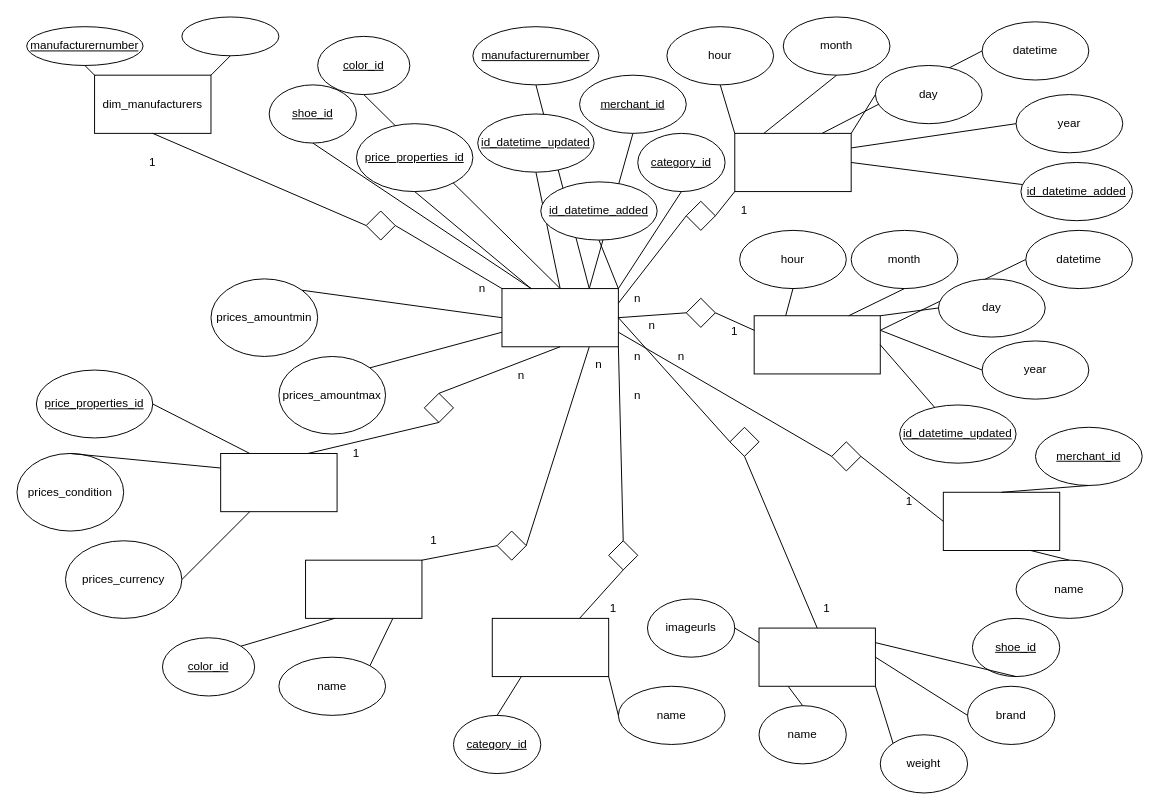
The diagram is 1159 pixels wide and 810 high, and some of its shapes have lost their labels. The shapes that lost their labels are listed below. From the top down, each one's centre as x and y in pixels, then its label:
(x=230, y=36): manufacturer
(x=792, y=162): dim_datetime_added
(x=559, y=317): fact_prices
(x=816, y=344): dim_datetime_updated
(x=278, y=482): dim_price_properties
(x=1001, y=520): dim_merchants
(x=363, y=588): dim_colors
(x=550, y=647): dim_categories
(x=816, y=656): dim_shoes_key_data
